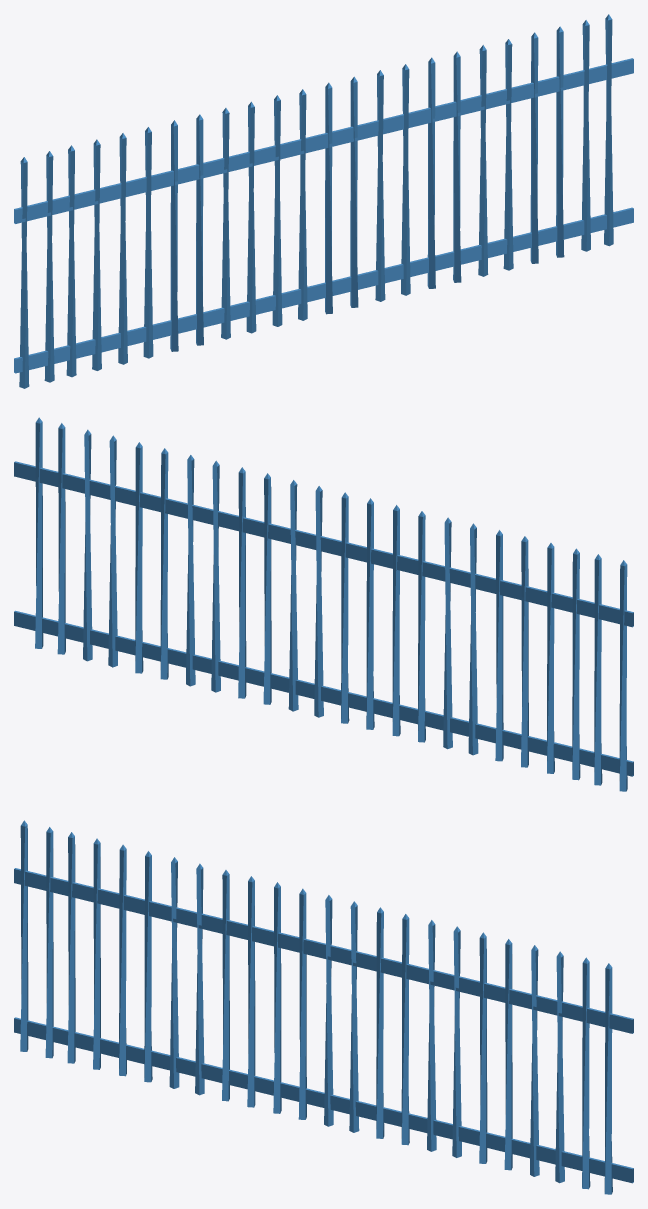
The model's file is Deco_Fence_Bars_Mid_A.fbx.
The picture shows the model from 3 angles, top to bottom: view 1: azimuth 30°, elevation 25°; view 2: azimuth 150°, elevation 25°; view 3: azimuth 330°, elevation 25°; orthographic projection.
Visible parts, largest first — view 1: Deco_Fence_Bars_Mid_A; view 2: Deco_Fence_Bars_Mid_A; view 3: Deco_Fence_Bars_Mid_A.
Boxes of the visible parts, <box> form: Deco_Fence_Bars_Mid_A: <box>14,14,633,388</box>; Deco_Fence_Bars_Mid_A: <box>14,417,633,791</box>; Deco_Fence_Bars_Mid_A: <box>14,820,633,1194</box>.
Bounding box in the file's own units: 900 × 320 × 11.54.
